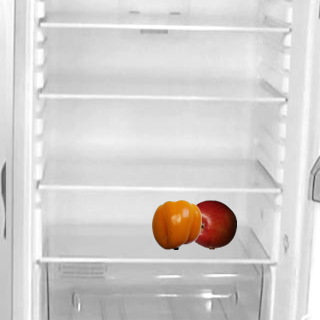Apple Braeburn: (186, 199, 236, 249)
Pepper Yellow: (151, 199, 201, 249)
